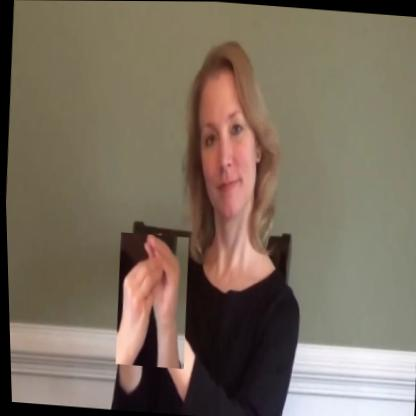Fix: (111, 232, 191, 370)
